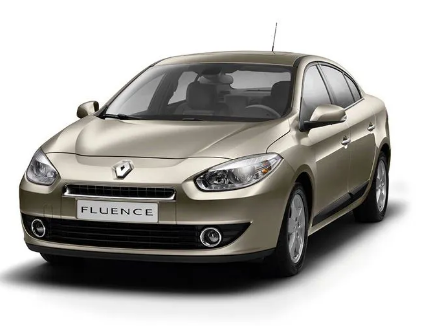car: (15, 43, 399, 288)
